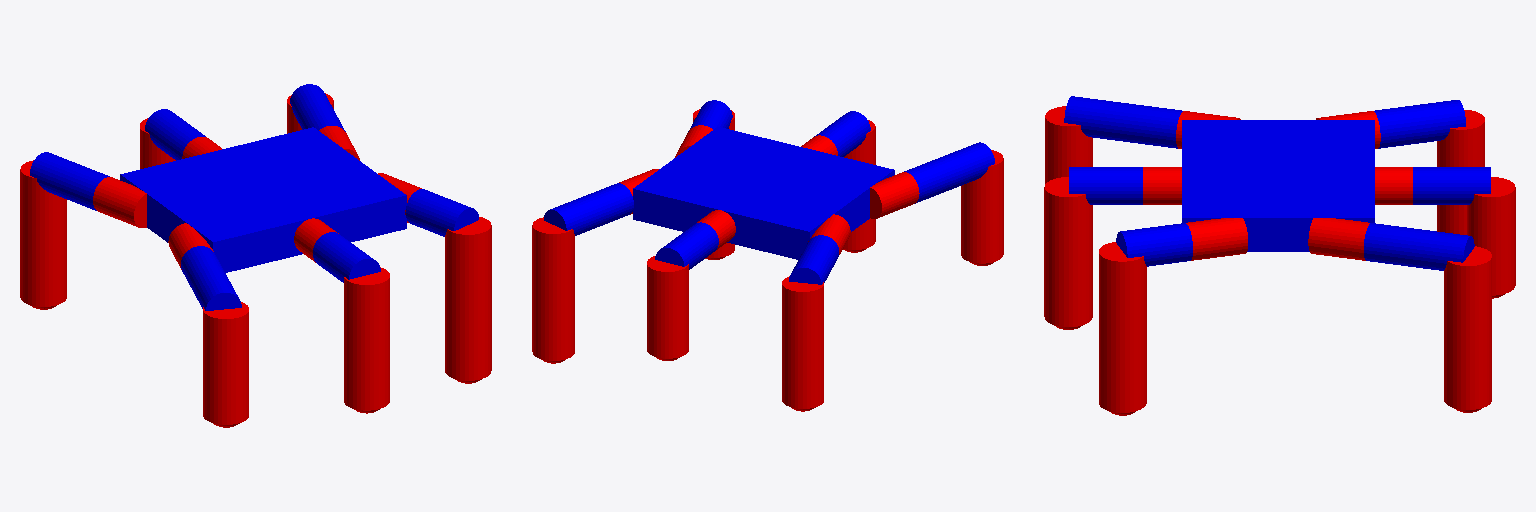
--- Render facts (derived) ---
3 views of the same robot in one strip: view 1: azimuth 30°, elevation 25°; view 2: azimuth 150°, elevation 25°; view 3: azimuth 270°, elevation 25° (orthographic).
Robot: pexod — 19 links, 18 joints (18 revolute); root link base_link; default pose: every joint at zero.
Visible links, largest first — view 1: base_link, leg_3_3, leg_4_3, leg_0_3, leg_5_3, leg_0_2, leg_5_2, leg_3_2, leg_4_2, leg_0_1, leg_1_2, leg_2_2 (+3 smaller); view 2: base_link, leg_2_3, leg_0_3, leg_1_3, leg_5_3, leg_5_2, leg_2_2, leg_1_2, leg_0_2, leg_5_1, leg_4_3, leg_4_2 (+3 smaller); view 3: base_link, leg_3_3, leg_2_3, leg_4_3, leg_5_2, leg_1_3, leg_2_2, leg_0_2, leg_0_3, leg_1_2, leg_4_2, leg_5_3 (+5 smaller).
Link boxes in pixels (left/top/right/bottom): base_link: left=120, top=127, right=406, bottom=272; leg_3_3: left=445, top=217, right=491, bottom=383; leg_4_3: left=344, top=267, right=389, bottom=413; leg_0_3: left=20, top=160, right=66, bottom=309; leg_5_3: left=203, top=302, right=248, bottom=427; leg_0_2: left=30, top=152, right=109, bottom=210; leg_5_2: left=181, top=246, right=241, bottom=310; leg_3_2: left=405, top=189, right=478, bottom=236; leg_4_2: left=313, top=232, right=380, bottom=282; leg_0_1: left=93, top=177, right=146, bottom=227; leg_1_2: left=145, top=109, right=205, bottom=160; leg_2_2: left=290, top=84, right=345, bottom=131; base_link: left=633, top=127, right=894, bottom=259; leg_2_3: left=532, top=217, right=574, bottom=363; leg_0_3: left=782, top=276, right=823, bottom=411; leg_1_3: left=647, top=256, right=688, bottom=360; leg_5_3: left=961, top=150, right=1003, bottom=265; leg_5_2: left=904, top=142, right=994, bottom=203; leg_2_2: left=544, top=183, right=633, bottom=235; leg_1_2: left=655, top=222, right=718, bottom=269; leg_0_2: left=789, top=235, right=838, bottom=284; leg_5_1: left=870, top=172, right=919, bottom=218; leg_4_3: left=843, top=120, right=875, bottom=252; leg_4_2: left=814, top=111, right=870, bottom=156; base_link: left=1182, top=120, right=1374, bottom=251; leg_3_3: left=1099, top=242, right=1146, bottom=415; leg_2_3: left=1444, top=246, right=1491, bottom=412; leg_4_3: left=1044, top=177, right=1092, bottom=329; leg_5_2: left=1064, top=96, right=1182, bottom=148; leg_1_3: left=1467, top=177, right=1515, bottom=298; leg_2_2: left=1364, top=223, right=1474, bottom=270; leg_0_2: left=1374, top=100, right=1465, bottom=148; leg_0_3: left=1437, top=110, right=1484, bottom=234; leg_1_2: left=1413, top=167, right=1490, bottom=204; leg_4_2: left=1069, top=167, right=1142, bottom=204; leg_5_3: left=1045, top=106, right=1092, bottom=183.
Size in the robot's own frame: 0.3931 by 0.4889 by 0.2056 metres.
Geometry: primitives only (box / cylinder / sphere), no mesh files.

robot.urdf — pexod:
<?xml version="1.0" ?>
<!-- =================================================================================== -->
<!-- |    This document was autogenerated by xacro from pexod.xacro                    | -->
<!-- |    EDITING THIS FILE BY HAND IS NOT RECOMMENDED                                 | -->
<!-- =================================================================================== -->
<robot name="pexod" xmlns:xacro="http://www.ros.org/wiki/xacro">
  <!-- <xacro:include filename="$(find pexod_description)/urdf/pexod_control.xacro" /> -->
  <!-- MATERIALS -->
  <material name="Blue">
    <color rgba="0 0 1 1"/>
  </material>
  <material name="Red">
    <color rgba="1 0 0 1"/>
  </material>
  <material name="Green">
    <color rgba="0 1 0 1"/>
  </material>
  <material name="Yellow">
    <color rgba="1 1 0 1"/>
  </material>
  <material name="LightGrey">
    <color rgba="0.6 0.6 0.6 1.0"/>
  </material>
  <!-- END OF MATERIALS -->
  <!-- XACRO MACROS FOR VISUALS AND COLLISIONS -->
  <!-- END OF XACRO MACROS -->
  <!-- TORSO -->
  <link name="base_link">
    <visual>
      <origin rpy="0 0 0" xyz="0 0 0"/>
      <geometry>
        <box size="0.24 0.2 0.04"/>
      </geometry>
      <material name="Blue"/>
    </visual>
    <collision>
      <origin rpy="0 0 0" xyz="0 0 0"/>
      <geometry>
        <box size="0.24 0.2 0.04"/>
      </geometry>
    </collision>
    <inertial>
      <!-- CENTER OF MASS -->
      <origin rpy="0 0 0" xyz="0 0 0"/>
      <mass value="1.031"/>
      <!-- box inertia: 1/12*m(y^2+z^2), ... -->
      <inertia ixx="0.00357413333333" ixy="0" ixz="0" iyy="0.00508626666667" iyz="0" izz="0.00838546666667"/>
    </inertial>
  </link>
  <!-- XACRO MACRO FOR LEGS LINKS/JOINTS -->
  <!-- END OF LEG LINKS/JOINTS -->
  <joint name="body_leg_2" type="revolute">
    <parent link="base_link"/>
    <child link="leg_2_1"/>
    <limit effort="30.0" lower="-1.57079632679" upper="1.57079632679" velocity="7.0"/>
    <origin rpy="0 0 -0.3" xyz="0.11 0.04 0"/>
    <!-- <xacro:if value="${index == 5 or index == 4 or index == 3}">
                <axis xyz="0 0 1"/>
            </xacro:if>
            <xacro:if value="${index == 2 or index == 1 or index == 0}"> -->
    <axis xyz="0 0 1"/>
    <!-- </xacro:if> -->
    <dynamics damping="0.0"/>
  </joint>
  <link name="leg_2_1">
    <visual>
      <origin rpy="1.57079632679 0 0" xyz="0.01 0.03 0"/>
      <geometry>
        <cylinder length="0.06" radius="0.02"/>
      </geometry>
      <material name="Red"/>
    </visual>
    <collision>
      <origin rpy="1.57079632679 0 0" xyz="0.01 0.03 0"/>
      <geometry>
        <box size="0.02 0.02 0.06"/>
      </geometry>
    </collision>
    <inertial>
      <!-- CENTER OF MASS -->
      <origin rpy="1.57079632679 0 0" xyz="0.01 0.03 0"/>
      <mass value="0.02"/>
      <!-- box inertia: 1/12*m(y^2+z^2), ... -->
      <inertia ixx="6.66666666667e-06" ixy="0" ixz="0" iyy="6.66666666667e-06" iyz="0" izz="1.33333333333e-06"/>
    </inertial>
  </link>
  <joint name="leg_2_1_2" type="revolute">
    <parent link="leg_2_1"/>
    <child link="leg_2_2"/>
    <limit effort="30.0" lower="-0.78539816339" upper="0.78539816339" velocity="7.0"/>
    <origin rpy="0 0 0" xyz="0 0.06 0"/>
    <axis xyz="1 0 0"/>
    <dynamics damping="0.0"/>
  </joint>
  <link name="leg_2_2">
    <visual>
      <origin rpy="1.57079632679 0 0" xyz="0.01 0.0541052275495 0"/>
      <geometry>
        <cylinder length="0.108210455099" radius="0.02"/>
      </geometry>
      <material name="Blue"/>
    </visual>
    <collision>
      <origin rpy="1.57079632679 0 0" xyz="0.01 0.0541052275495 0"/>
      <geometry>
        <box size="0.02 0.02 0.108210455099"/>
      </geometry>
    </collision>
    <inertial>
      <!-- CENTER OF MASS -->
      <origin rpy="1.57079632679 0 0" xyz="0.01 0.0541052275495 0"/>
      <mass value="0.184"/>
      <!-- box inertia: 1/12*m(y^2+z^2), ... -->
      <inertia ixx="0.000185679039755" ixy="0" ixz="0" iyy="0.000185679039755" iyz="0" izz="1.22666666667e-05"/>
    </inertial>
  </link>
  <joint name="leg_2_2_3" type="revolute">
    <parent link="leg_2_2"/>
    <child link="leg_2_3"/>
    <limit effort="30.0" lower="-0.78539816339" upper="0.78539816339" velocity="7.0"/>
    <origin rpy="-1.57079632679 0 0" xyz="0 0.108210455099 0"/>
    <axis xyz="-1 0 0"/>
    <dynamics damping="0.0"/>
  </joint>
  <link name="leg_2_3">
    <visual>
      <origin rpy="1.57079632679 0 0" xyz="0.0125 0.0824127100955 0"/>
      <geometry>
        <cylinder length="0.164825420191" radius="0.025"/>
      </geometry>
      <material name="Red"/>
    </visual>
    <visual>
      <origin rpy="1.57079632679 0 0" xyz="0.0125 0.152325420191 0"/>
      <geometry>
        <sphere radius="0.025"/>
      </geometry>
      <material name="Red"/>
    </visual>
    <collision>
      <origin rpy="1.57079632679 0 0" xyz="0.0125 0.0824127100955 0"/>
      <geometry>
        <box size="0.025 0.025 0.164825420191"/>
      </geometry>
    </collision>
    <collision>
      <origin rpy="1.57079632679 0 0" xyz="0.0125 0.152325420191 0"/>
      <geometry>
        <sphere radius="0.025"/>
      </geometry>
      <material name="Red"/>
    </collision>
    <inertial>
      <!-- CENTER OF MASS -->
      <origin rpy="1.57079632679 0 0" xyz="0.0125 0.0824127100955 0"/>
      <mass value="0.04"/>
      <!-- box inertia: 1/12*m(y^2+z^2), ... -->
      <inertia ixx="9.26413971371e-05" ixy="0" ixz="0" iyy="9.26413971371e-05" iyz="0" izz="4.16666666667e-06"/>
    </inertial>
  </link>
  <joint name="body_leg_3" type="revolute">
    <parent link="base_link"/>
    <child link="leg_3_1"/>
    <limit effort="30.0" lower="-1.57079632679" upper="1.57079632679" velocity="7.0"/>
    <origin rpy="0 0 0.3" xyz="0.11 -0.04 0"/>
    <!-- <xacro:if value="${index == 5 or index == 4 or index == 3}">
                <axis xyz="0 0 1"/>
            </xacro:if>
            <xacro:if value="${index == 2 or index == 1 or index == 0}"> -->
    <axis xyz="0 0 1"/>
    <!-- </xacro:if> -->
    <dynamics damping="0.0"/>
  </joint>
  <link name="leg_3_1">
    <visual>
      <origin rpy="1.57079632679 0 0" xyz="0.01 -0.03 0"/>
      <geometry>
        <cylinder length="0.06" radius="0.02"/>
      </geometry>
      <material name="Red"/>
    </visual>
    <collision>
      <origin rpy="1.57079632679 0 0" xyz="0.01 -0.03 0"/>
      <geometry>
        <box size="0.02 0.02 0.06"/>
      </geometry>
    </collision>
    <inertial>
      <!-- CENTER OF MASS -->
      <origin rpy="1.57079632679 0 0" xyz="0.01 -0.03 0"/>
      <mass value="0.02"/>
      <!-- box inertia: 1/12*m(y^2+z^2), ... -->
      <inertia ixx="6.66666666667e-06" ixy="0" ixz="0" iyy="6.66666666667e-06" iyz="0" izz="1.33333333333e-06"/>
    </inertial>
  </link>
  <joint name="leg_3_1_2" type="revolute">
    <parent link="leg_3_1"/>
    <child link="leg_3_2"/>
    <limit effort="30.0" lower="-0.78539816339" upper="0.78539816339" velocity="7.0"/>
    <origin rpy="0 0 0" xyz="0 -0.06 0"/>
    <axis xyz="-1 0 0"/>
    <dynamics damping="0.0"/>
  </joint>
  <link name="leg_3_2">
    <visual>
      <origin rpy="1.57079632679 0 0" xyz="0.01 -0.0355787965873 0"/>
      <geometry>
        <cylinder length="0.0711575931746" radius="0.02"/>
      </geometry>
      <material name="Blue"/>
    </visual>
    <collision>
      <origin rpy="1.57079632679 0 0" xyz="0.01 -0.0355787965873 0"/>
      <geometry>
        <box size="0.02 0.02 0.0711575931746"/>
      </geometry>
    </collision>
    <inertial>
      <!-- CENTER OF MASS -->
      <origin rpy="1.57079632679 0 0" xyz="0.01 -0.0355787965873 0"/>
      <mass value="0.184"/>
      <!-- box inertia: 1/12*m(y^2+z^2), ... -->
      <inertia ixx="8.37721803515e-05" ixy="0" ixz="0" iyy="8.37721803515e-05" iyz="0" izz="1.22666666667e-05"/>
    </inertial>
  </link>
  <joint name="leg_3_2_3" type="revolute">
    <parent link="leg_3_2"/>
    <child link="leg_3_3"/>
    <limit effort="30.0" lower="-0.78539816339" upper="0.78539816339" velocity="7.0"/>
    <origin rpy="1.57079632679 0 0" xyz="0 -0.0711575931746 0"/>
    <axis xyz="1 0 0"/>
    <dynamics damping="0.0"/>
  </joint>
  <link name="leg_3_3">
    <visual>
      <origin rpy="1.57079632679 0 0" xyz="0.0125 -0.0865706142135 0"/>
      <geometry>
        <cylinder length="0.173141228427" radius="0.025"/>
      </geometry>
      <material name="Red"/>
    </visual>
    <visual>
      <origin rpy="1.57079632679 0 0" xyz="0.0125 -0.160641228427 0"/>
      <geometry>
        <sphere radius="0.025"/>
      </geometry>
      <material name="Red"/>
    </visual>
    <collision>
      <origin rpy="1.57079632679 0 0" xyz="0.0125 -0.0865706142135 0"/>
      <geometry>
        <box size="0.025 0.025 0.173141228427"/>
      </geometry>
    </collision>
    <collision>
      <origin rpy="1.57079632679 0 0" xyz="0.0125 -0.160641228427 0"/>
      <geometry>
        <sphere radius="0.025"/>
      </geometry>
      <material name="Red"/>
    </collision>
    <inertial>
      <!-- CENTER OF MASS -->
      <origin rpy="1.57079632679 0 0" xyz="0.0125 -0.0865706142135 0"/>
      <mass value="0.04"/>
      <!-- box inertia: 1/12*m(y^2+z^2), ... -->
      <inertia ixx="0.000102009616604" ixy="0" ixz="0" iyy="0.000102009616604" iyz="0" izz="4.16666666667e-06"/>
    </inertial>
  </link>
  <joint name="body_leg_0" type="revolute">
    <parent link="base_link"/>
    <child link="leg_0_1"/>
    <limit effort="30.0" lower="-1.57079632679" upper="1.57079632679" velocity="7.0"/>
    <origin rpy="0 0 0.3" xyz="-0.13 0.04 0"/>
    <!-- <xacro:if value="${index == 5 or index == 4 or index == 3}">
                <axis xyz="0 0 1"/>
            </xacro:if>
            <xacro:if value="${index == 2 or index == 1 or index == 0}"> -->
    <axis xyz="0 0 1"/>
    <!-- </xacro:if> -->
    <dynamics damping="0.0"/>
  </joint>
  <link name="leg_0_1">
    <visual>
      <origin rpy="1.57079632679 0 0" xyz="0.01 0.03 0"/>
      <geometry>
        <cylinder length="0.06" radius="0.02"/>
      </geometry>
      <material name="Red"/>
    </visual>
    <collision>
      <origin rpy="1.57079632679 0 0" xyz="0.01 0.03 0"/>
      <geometry>
        <box size="0.02 0.02 0.06"/>
      </geometry>
    </collision>
    <inertial>
      <!-- CENTER OF MASS -->
      <origin rpy="1.57079632679 0 0" xyz="0.01 0.03 0"/>
      <mass value="0.02"/>
      <!-- box inertia: 1/12*m(y^2+z^2), ... -->
      <inertia ixx="6.66666666667e-06" ixy="0" ixz="0" iyy="6.66666666667e-06" iyz="0" izz="1.33333333333e-06"/>
    </inertial>
  </link>
  <joint name="leg_0_1_2" type="revolute">
    <parent link="leg_0_1"/>
    <child link="leg_0_2"/>
    <limit effort="30.0" lower="-0.78539816339" upper="0.78539816339" velocity="7.0"/>
    <origin rpy="0 0 0" xyz="0 0.06 0"/>
    <axis xyz="1 0 0"/>
    <dynamics damping="0.0"/>
  </joint>
  <link name="leg_0_2">
    <visual>
      <origin rpy="1.57079632679 0 0" xyz="0.01 0.0464922518994 0"/>
      <geometry>
        <cylinder length="0.0929845037988" radius="0.02"/>
      </geometry>
      <material name="Blue"/>
    </visual>
    <collision>
      <origin rpy="1.57079632679 0 0" xyz="0.01 0.0464922518994 0"/>
      <geometry>
        <box size="0.02 0.02 0.0929845037988"/>
      </geometry>
    </collision>
    <inertial>
      <!-- CENTER OF MASS -->
      <origin rpy="1.57079632679 0 0" xyz="0.01 0.0464922518994 0"/>
      <mass value="0.184"/>
      <!-- box inertia: 1/12*m(y^2+z^2), ... -->
      <inertia ixx="0.00013870714185" ixy="0" ixz="0" iyy="0.00013870714185" iyz="0" izz="1.22666666667e-05"/>
    </inertial>
  </link>
  <joint name="leg_0_2_3" type="revolute">
    <parent link="leg_0_2"/>
    <child link="leg_0_3"/>
    <limit effort="30.0" lower="-0.78539816339" upper="0.78539816339" velocity="7.0"/>
    <origin rpy="-1.57079632679 0 0" xyz="0 0.0929845037988 0"/>
    <axis xyz="-1 0 0"/>
    <dynamics damping="0.0"/>
  </joint>
  <link name="leg_0_3">
    <visual>
      <origin rpy="1.57079632679 0 0" xyz="0.0125 0.0759672448715 0"/>
      <geometry>
        <cylinder length="0.151934489743" radius="0.025"/>
      </geometry>
      <material name="Red"/>
    </visual>
    <visual>
      <origin rpy="1.57079632679 0 0" xyz="0.0125 0.139434489743 0"/>
      <geometry>
        <sphere radius="0.025"/>
      </geometry>
      <material name="Red"/>
    </visual>
    <collision>
      <origin rpy="1.57079632679 0 0" xyz="0.0125 0.0759672448715 0"/>
      <geometry>
        <box size="0.025 0.025 0.151934489743"/>
      </geometry>
    </collision>
    <collision>
      <origin rpy="1.57079632679 0 0" xyz="0.0125 0.139434489743 0"/>
      <geometry>
        <sphere radius="0.025"/>
      </geometry>
      <material name="Red"/>
    </collision>
    <inertial>
      <!-- CENTER OF MASS -->
      <origin rpy="1.57079632679 0 0" xyz="0.0125 0.0759672448715 0"/>
      <mass value="0.04"/>
      <!-- box inertia: 1/12*m(y^2+z^2), ... -->
      <inertia ixx="7.90302972449e-05" ixy="0" ixz="0" iyy="7.90302972449e-05" iyz="0" izz="4.16666666667e-06"/>
    </inertial>
  </link>
  <joint name="body_leg_5" type="revolute">
    <parent link="base_link"/>
    <child link="leg_5_1"/>
    <limit effort="30.0" lower="-1.57079632679" upper="1.57079632679" velocity="7.0"/>
    <origin rpy="0 0 -0.3" xyz="-0.13 -0.04 0"/>
    <!-- <xacro:if value="${index == 5 or index == 4 or index == 3}">
                <axis xyz="0 0 1"/>
            </xacro:if>
            <xacro:if value="${index == 2 or index == 1 or index == 0}"> -->
    <axis xyz="0 0 1"/>
    <!-- </xacro:if> -->
    <dynamics damping="0.0"/>
  </joint>
  <link name="leg_5_1">
    <visual>
      <origin rpy="1.57079632679 0 0" xyz="0.01 -0.03 0"/>
      <geometry>
        <cylinder length="0.06" radius="0.02"/>
      </geometry>
      <material name="Red"/>
    </visual>
    <collision>
      <origin rpy="1.57079632679 0 0" xyz="0.01 -0.03 0"/>
      <geometry>
        <box size="0.02 0.02 0.06"/>
      </geometry>
    </collision>
    <inertial>
      <!-- CENTER OF MASS -->
      <origin rpy="1.57079632679 0 0" xyz="0.01 -0.03 0"/>
      <mass value="0.02"/>
      <!-- box inertia: 1/12*m(y^2+z^2), ... -->
      <inertia ixx="6.66666666667e-06" ixy="0" ixz="0" iyy="6.66666666667e-06" iyz="0" izz="1.33333333333e-06"/>
    </inertial>
  </link>
  <joint name="leg_5_1_2" type="revolute">
    <parent link="leg_5_1"/>
    <child link="leg_5_2"/>
    <limit effort="30.0" lower="-0.78539816339" upper="0.78539816339" velocity="7.0"/>
    <origin rpy="0 0 0" xyz="0 -0.06 0"/>
    <axis xyz="-1 0 0"/>
    <dynamics damping="0.0"/>
  </joint>
  <link name="leg_5_2">
    <visual>
      <origin rpy="1.57079632679 0 0" xyz="0.01 -0.060742880052 0"/>
      <geometry>
        <cylinder length="0.121485760104" radius="0.02"/>
      </geometry>
      <material name="Blue"/>
    </visual>
    <collision>
      <origin rpy="1.57079632679 0 0" xyz="0.01 -0.060742880052 0"/>
      <geometry>
        <box size="0.02 0.02 0.121485760104"/>
      </geometry>
    </collision>
    <inertial>
      <!-- CENTER OF MASS -->
      <origin rpy="1.57079632679 0 0" xyz="0.01 -0.060742880052 0"/>
      <mass value="0.184"/>
      <!-- box inertia: 1/12*m(y^2+z^2), ... -->
      <inertia ixx="0.00023243477859" ixy="0" ixz="0" iyy="0.00023243477859" iyz="0" izz="1.22666666667e-05"/>
    </inertial>
  </link>
  <joint name="leg_5_2_3" type="revolute">
    <parent link="leg_5_2"/>
    <child link="leg_5_3"/>
    <limit effort="30.0" lower="-0.78539816339" upper="0.78539816339" velocity="7.0"/>
    <origin rpy="1.57079632679 0 0" xyz="0 -0.121485760104 0"/>
    <axis xyz="1 0 0"/>
    <dynamics damping="0.0"/>
  </joint>
  <link name="leg_5_3">
    <visual>
      <origin rpy="1.57079632679 0 0" xyz="0.0125 -0.062761919118 0"/>
      <geometry>
        <cylinder length="0.125523838236" radius="0.025"/>
      </geometry>
      <material name="Red"/>
    </visual>
    <visual>
      <origin rpy="1.57079632679 0 0" xyz="0.0125 -0.113023838236 0"/>
      <geometry>
        <sphere radius="0.025"/>
      </geometry>
      <material name="Red"/>
    </visual>
    <collision>
      <origin rpy="1.57079632679 0 0" xyz="0.0125 -0.062761919118 0"/>
      <geometry>
        <box size="0.025 0.025 0.125523838236"/>
      </geometry>
    </collision>
    <collision>
      <origin rpy="1.57079632679 0 0" xyz="0.0125 -0.113023838236 0"/>
      <geometry>
        <sphere radius="0.025"/>
      </geometry>
      <material name="Red"/>
    </collision>
    <inertial>
      <!-- CENTER OF MASS -->
      <origin rpy="1.57079632679 0 0" xyz="0.0125 -0.062761919118 0"/>
      <mass value="0.04"/>
      <!-- box inertia: 1/12*m(y^2+z^2), ... -->
      <inertia ixx="5.46041132183e-05" ixy="0" ixz="0" iyy="5.46041132183e-05" iyz="0" izz="4.16666666667e-06"/>
    </inertial>
  </link>
  <joint name="body_leg_1" type="revolute">
    <parent link="base_link"/>
    <child link="leg_1_1"/>
    <limit effort="30.0" lower="-1.57079632679" upper="1.57079632679" velocity="7.0"/>
    <origin rpy="0 0 0" xyz="-0.01 0.08 0"/>
    <!-- <xacro:if value="${index == 5 or index == 4 or index == 3}">
                <axis xyz="0 0 1"/>
            </xacro:if>
            <xacro:if value="${index == 2 or index == 1 or index == 0}"> -->
    <axis xyz="0 0 1"/>
    <!-- </xacro:if> -->
    <dynamics damping="0.0"/>
  </joint>
  <link name="leg_1_1">
    <visual>
      <origin rpy="1.57079632679 0 0" xyz="0.01 0.03 0"/>
      <geometry>
        <cylinder length="0.06" radius="0.02"/>
      </geometry>
      <material name="Red"/>
    </visual>
    <collision>
      <origin rpy="1.57079632679 0 0" xyz="0.01 0.03 0"/>
      <geometry>
        <box size="0.02 0.02 0.06"/>
      </geometry>
    </collision>
    <inertial>
      <!-- CENTER OF MASS -->
      <origin rpy="1.57079632679 0 0" xyz="0.01 0.03 0"/>
      <mass value="0.02"/>
      <!-- box inertia: 1/12*m(y^2+z^2), ... -->
      <inertia ixx="6.66666666667e-06" ixy="0" ixz="0" iyy="6.66666666667e-06" iyz="0" izz="1.33333333333e-06"/>
    </inertial>
  </link>
  <joint name="leg_1_1_2" type="revolute">
    <parent link="leg_1_1"/>
    <child link="leg_1_2"/>
    <limit effort="30.0" lower="-0.78539816339" upper="0.78539816339" velocity="7.0"/>
    <origin rpy="0 0 0" xyz="0 0.06 0"/>
    <axis xyz="1 0 0"/>
    <dynamics damping="0.0"/>
  </joint>
  <link name="leg_1_2">
    <visual>
      <origin rpy="1.57079632679 0 0" xyz="0.01 0.0405578234239 0"/>
      <geometry>
        <cylinder length="0.0811156468479" radius="0.02"/>
      </geometry>
      <material name="Blue"/>
    </visual>
    <collision>
      <origin rpy="1.57079632679 0 0" xyz="0.01 0.0405578234239 0"/>
      <geometry>
        <box size="0.02 0.02 0.0811156468479"/>
      </geometry>
    </collision>
    <inertial>
      <!-- CENTER OF MASS -->
      <origin rpy="1.57079632679 0 0" xyz="0.01 0.0405578234239 0"/>
      <mass value="0.184"/>
      <!-- box inertia: 1/12*m(y^2+z^2), ... -->
      <inertia ixx="0.000107022805174" ixy="0" ixz="0" iyy="0.000107022805174" iyz="0" izz="1.22666666667e-05"/>
    </inertial>
  </link>
  <joint name="leg_1_2_3" type="revolute">
    <parent link="leg_1_2"/>
    <child link="leg_1_3"/>
    <limit effort="30.0" lower="-0.78539816339" upper="0.78539816339" velocity="7.0"/>
    <origin rpy="-1.57079632679 0 0" xyz="0 0.0811156468479 0"/>
    <axis xyz="-1 0 0"/>
    <dynamics damping="0.0"/>
  </joint>
  <link name="leg_1_3">
    <visual>
      <origin rpy="1.57079632679 0 0" xyz="0.0125 0.0563437779205 0"/>
      <geometry>
        <cylinder length="0.112687555841" radius="0.025"/>
      </geometry>
      <material name="Red"/>
    </visual>
    <visual>
      <origin rpy="1.57079632679 0 0" xyz="0.0125 0.100187555841 0"/>
      <geometry>
        <sphere radius="0.025"/>
      </geometry>
      <material name="Red"/>
    </visual>
    <collision>
      <origin rpy="1.57079632679 0 0" xyz="0.0125 0.0563437779205 0"/>
      <geometry>
        <box size="0.025 0.025 0.112687555841"/>
      </geometry>
    </collision>
    <collision>
      <origin rpy="1.57079632679 0 0" xyz="0.0125 0.100187555841 0"/>
      <geometry>
        <sphere radius="0.025"/>
      </geometry>
      <material name="Red"/>
    </collision>
    <inertial>
      <!-- CENTER OF MASS -->
      <origin rpy="1.57079632679 0 0" xyz="0.0125 0.0563437779205 0"/>
      <mass value="0.04"/>
      <!-- box inertia: 1/12*m(y^2+z^2), ... -->
      <inertia ixx="4.44116174714e-05" ixy="0" ixz="0" iyy="4.44116174714e-05" iyz="0" izz="4.16666666667e-06"/>
    </inertial>
  </link>
  <joint name="body_leg_4" type="revolute">
    <parent link="base_link"/>
    <child link="leg_4_1"/>
    <limit effort="30.0" lower="-1.57079632679" upper="1.57079632679" velocity="7.0"/>
    <origin rpy="0 0 0" xyz="-0.01 -0.08 0"/>
    <!-- <xacro:if value="${index == 5 or index == 4 or index == 3}">
                <axis xyz="0 0 1"/>
            </xacro:if>
            <xacro:if value="${index == 2 or index == 1 or index == 0}"> -->
    <axis xyz="0 0 1"/>
    <!-- </xacro:if> -->
    <dynamics damping="0.0"/>
  </joint>
  <link name="leg_4_1">
    <visual>
      <origin rpy="1.57079632679 0 0" xyz="0.01 -0.03 0"/>
      <geometry>
        <cylinder length="0.06" radius="0.02"/>
      </geometry>
      <material name="Red"/>
    </visual>
    <collision>
      <origin rpy="1.57079632679 0 0" xyz="0.01 -0.03 0"/>
      <geometry>
        <box size="0.02 0.02 0.06"/>
      </geometry>
    </collision>
    <inertial>
      <!-- CENTER OF MASS -->
      <origin rpy="1.57079632679 0 0" xyz="0.01 -0.03 0"/>
      <mass value="0.02"/>
      <!-- box inertia: 1/12*m(y^2+z^2), ... -->
      <inertia ixx="6.66666666667e-06" ixy="0" ixz="0" iyy="6.66666666667e-06" iyz="0" izz="1.33333333333e-06"/>
    </inertial>
  </link>
  <joint name="leg_4_1_2" type="revolute">
    <parent link="leg_4_1"/>
    <child link="leg_4_2"/>
    <limit effort="30.0" lower="-0.78539816339" upper="0.78539816339" velocity="7.0"/>
    <origin rpy="0 0 0" xyz="0 -0.06 0"/>
    <axis xyz="-1 0 0"/>
    <dynamics damping="0.0"/>
  </joint>
  <link name="leg_4_2">
    <visual>
      <origin rpy="1.57079632679 0 0" xyz="0.01 -0.0388677940172 0"/>
      <geometry>
        <cylinder length="0.0777355880345" radius="0.02"/>
      </geometry>
      <material name="Blue"/>
    </visual>
    <collision>
      <origin rpy="1.57079632679 0 0" xyz="0.01 -0.0388677940172 0"/>
      <geometry>
        <box size="0.02 0.02 0.0777355880345"/>
      </geometry>
    </collision>
    <inertial>
      <!-- CENTER OF MASS -->
      <origin rpy="1.57079632679 0 0" xyz="0.01 -0.0388677940172 0"/>
      <mass value="0.184"/>
      <!-- box inertia: 1/12*m(y^2+z^2), ... -->
      <inertia ixx="9.87899319217e-05" ixy="0" ixz="0" iyy="9.87899319217e-05" iyz="0" izz="1.22666666667e-05"/>
    </inertial>
  </link>
  <joint name="leg_4_2_3" type="revolute">
    <parent link="leg_4_2"/>
    <child link="leg_4_3"/>
    <limit effort="30.0" lower="-0.78539816339" upper="0.78539816339" velocity="7.0"/>
    <origin rpy="1.57079632679 0 0" xyz="0 -0.0777355880345 0"/>
    <axis xyz="1 0 0"/>
    <dynamics damping="0.0"/>
  </joint>
  <link name="leg_4_3">
    <visual>
      <origin rpy="1.57079632679 0 0" xyz="0.0125 -0.074452064475 0"/>
      <geometry>
        <cylinder length="0.14890412895" radius="0.025"/>
      </geometry>
      <material name="Red"/>
    </visual>
    <visual>
      <origin rpy="1.57079632679 0 0" xyz="0.0125 -0.13640412895 0"/>
      <geometry>
        <sphere radius="0.025"/>
      </geometry>
      <material name="Red"/>
    </visual>
    <collision>
      <origin rpy="1.57079632679 0 0" xyz="0.0125 -0.074452064475 0"/>
      <geometry>
        <box size="0.025 0.025 0.14890412895"/>
      </geometry>
    </collision>
    <collision>
      <origin rpy="1.57079632679 0 0" xyz="0.0125 -0.13640412895 0"/>
      <geometry>
        <sphere radius="0.025"/>
      </geometry>
      <material name="Red"/>
    </collision>
    <inertial>
      <!-- CENTER OF MASS -->
      <origin rpy="1.57079632679 0 0" xyz="0.0125 -0.074452064475 0"/>
      <mass value="0.04"/>
      <!-- box inertia: 1/12*m(y^2+z^2), ... -->
      <inertia ixx="7.59914653945e-05" ixy="0" ixz="0" iyy="7.59914653945e-05" iyz="0" izz="4.16666666667e-06"/>
    </inertial>
  </link>
  <!-- END OF LEG LINKS/JOINTS -->
</robot>
